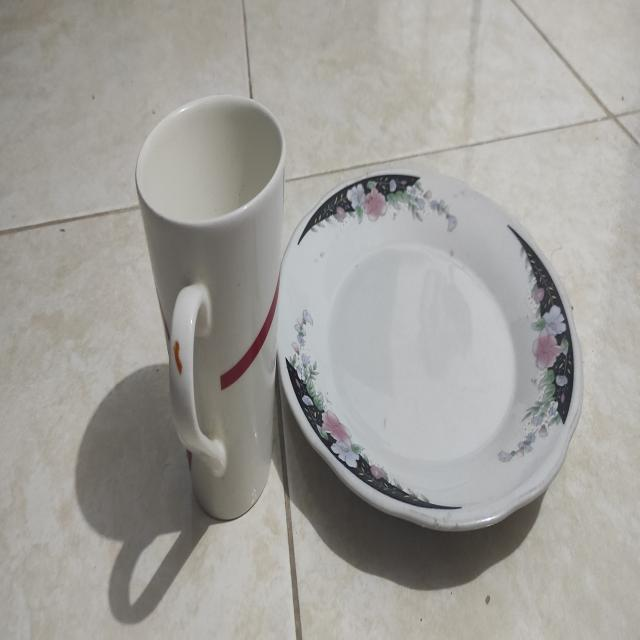ceramic plate: (273, 156, 595, 536)
